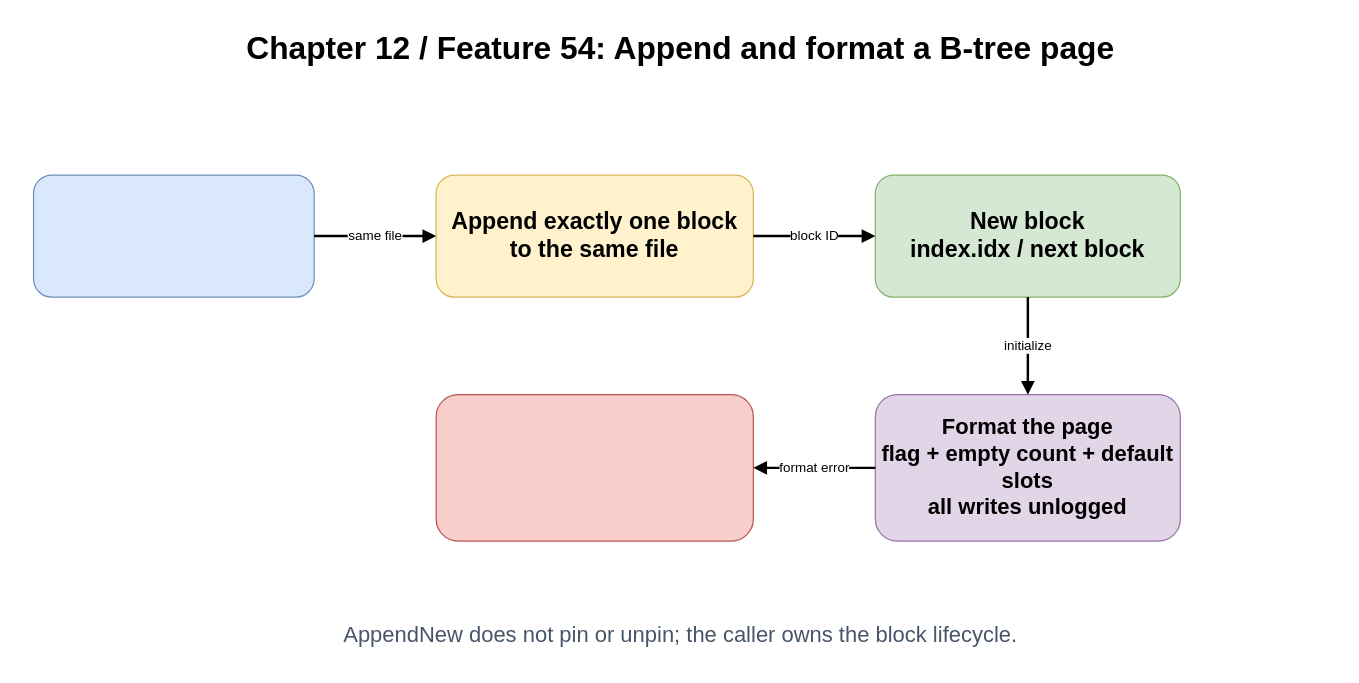
Image size: 1359x683. Some labels were removed from this diagram. The shapes that lost their labels are listed below. From the top down, each one's centre as x and y in pixels, then its label:
At [173,235]: "Current page file = index.idx".
At [594,467]: "If formatting fails return no block ID caller must not publish it".
